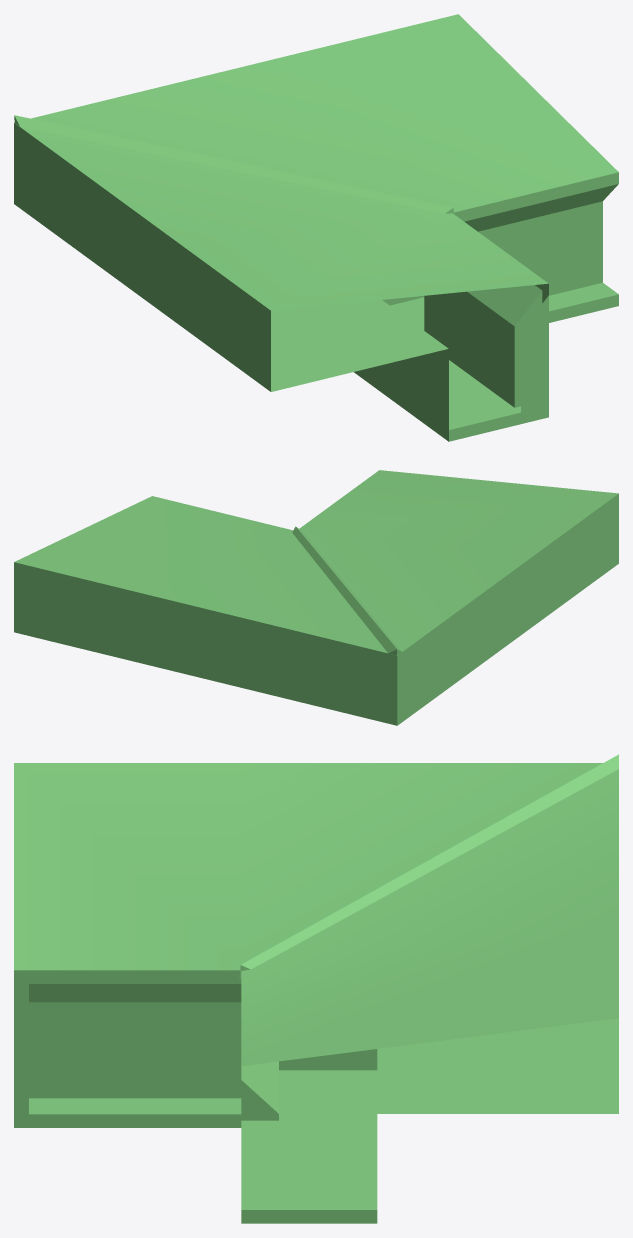
File: Bld3_Top_Cor_Inv.fbx
The picture shows the model from 3 angles, top to bottom: view 1: azimuth 30°, elevation 25°; view 2: azimuth 150°, elevation 25°; view 3: azimuth 270°, elevation 25°; orthographic projection. The views are drawn at different scales.
Visible parts, largest first — view 1: Bld3_Top_Cor_Inv; view 2: Bld3_Top_Cor_Inv; view 3: Bld3_Top_Cor_Inv.
Part boxes in pixels (left/top/right/bottom): Bld3_Top_Cor_Inv: left=14, top=14, right=618, bottom=441; Bld3_Top_Cor_Inv: left=14, top=470, right=618, bottom=725; Bld3_Top_Cor_Inv: left=14, top=754, right=618, bottom=1223.
Bounding box in the file's own units: 600 × 235 × 601.
